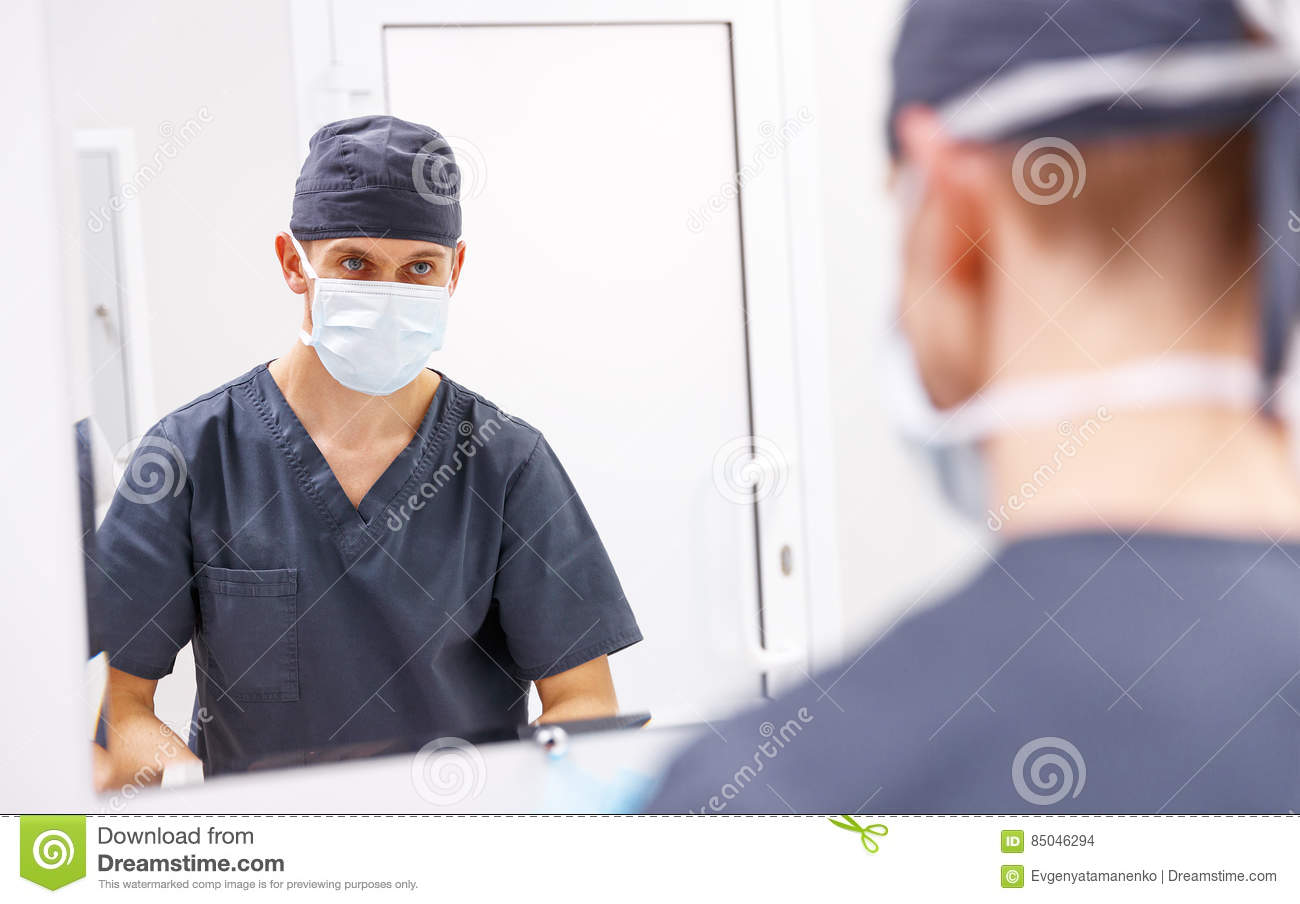mask: (299, 274, 451, 384)
